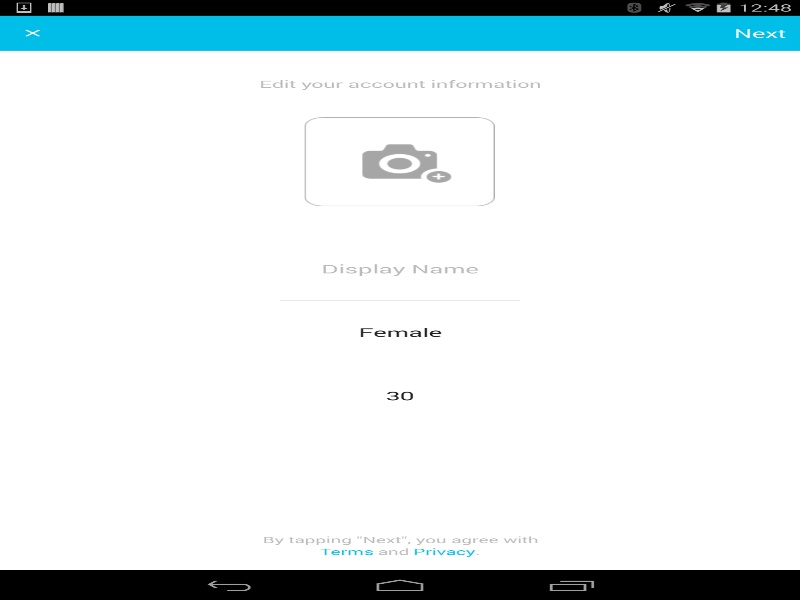Input: (321, 237, 478, 300)
